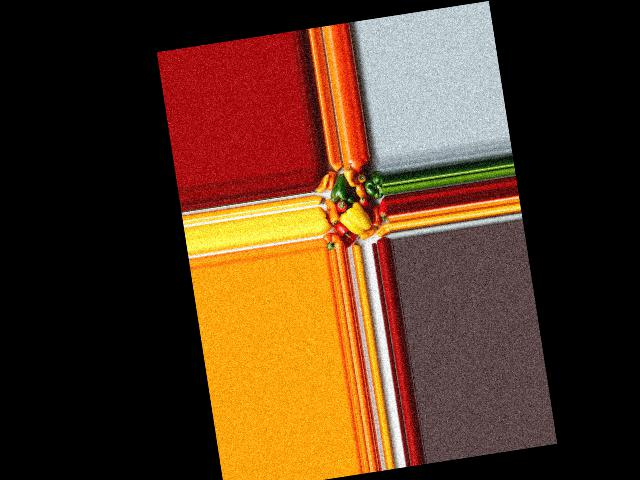bell_pepper: (374, 198, 390, 222)
